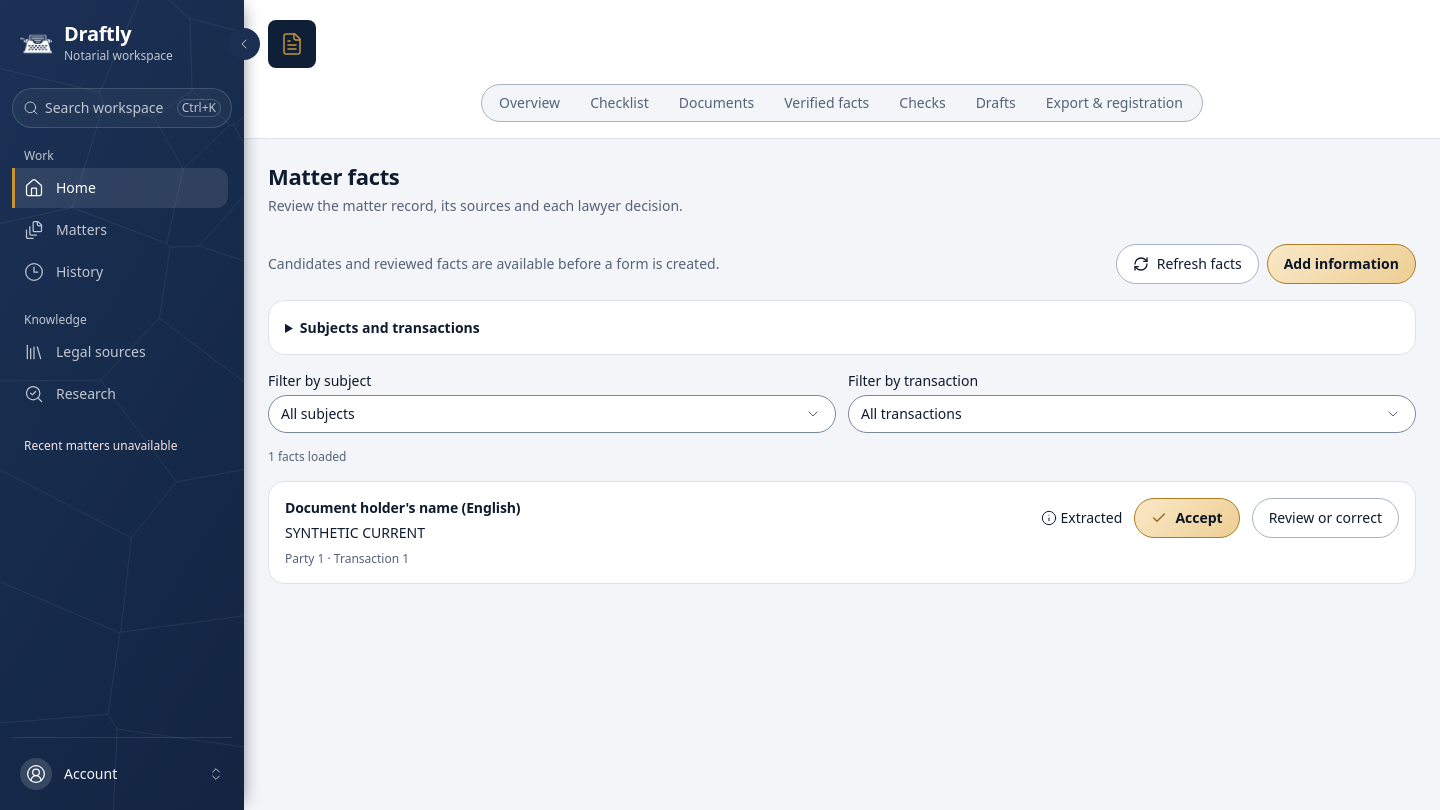
Scenario: canonical register › retries an ambiguous quick acceptance using the same key and displayed version
This screenshot has width=1440, height=810.
Click the button "Accept" at (1187,518), box [1134,498,1240,538]
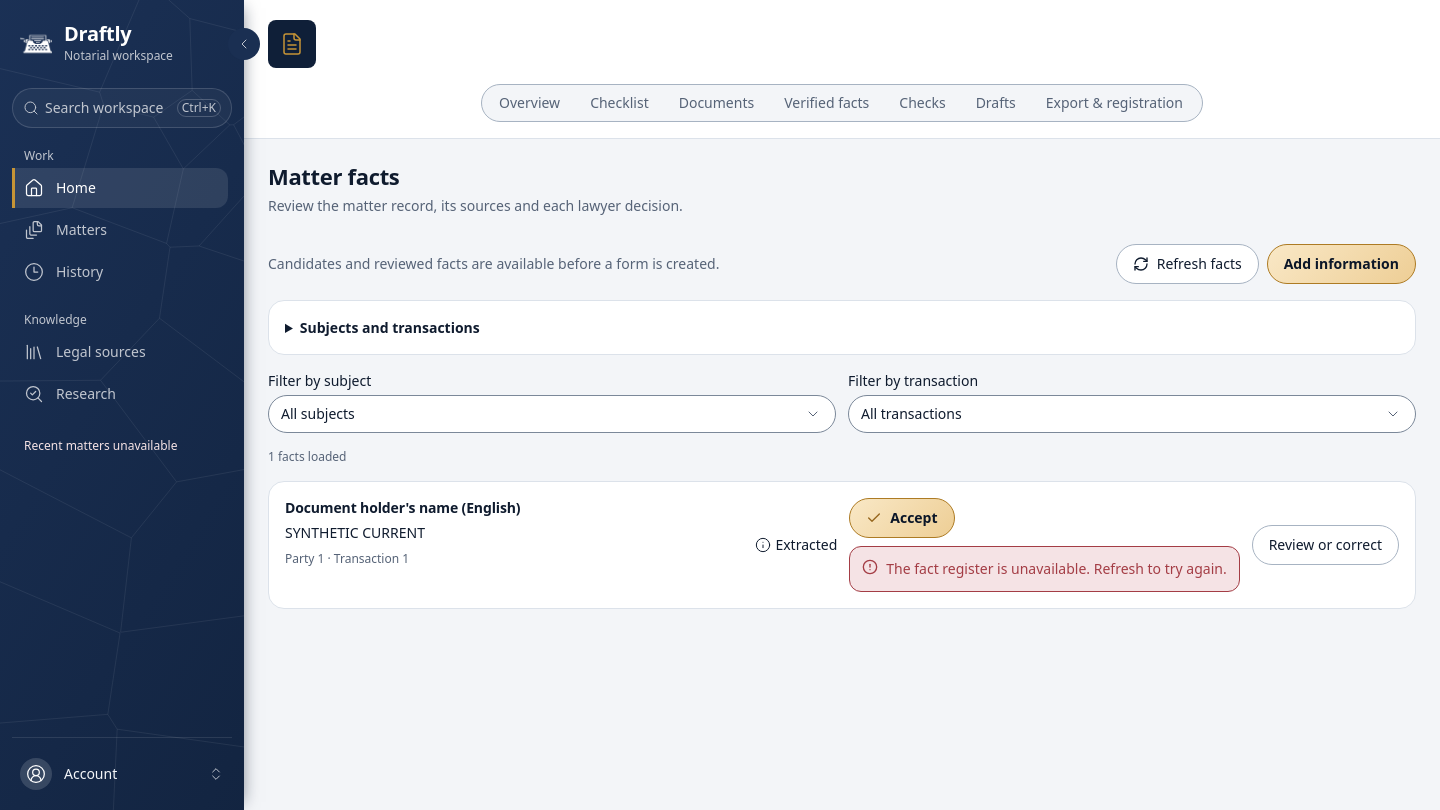
Expected: the text "Lawyer confirmed" is not shown
Expected: the message "The fact register is unavailable. Refresh to try again." is shown, [849,546,1240,592]
Click the button "Accept" at (902,518), box [849,498,955,538]
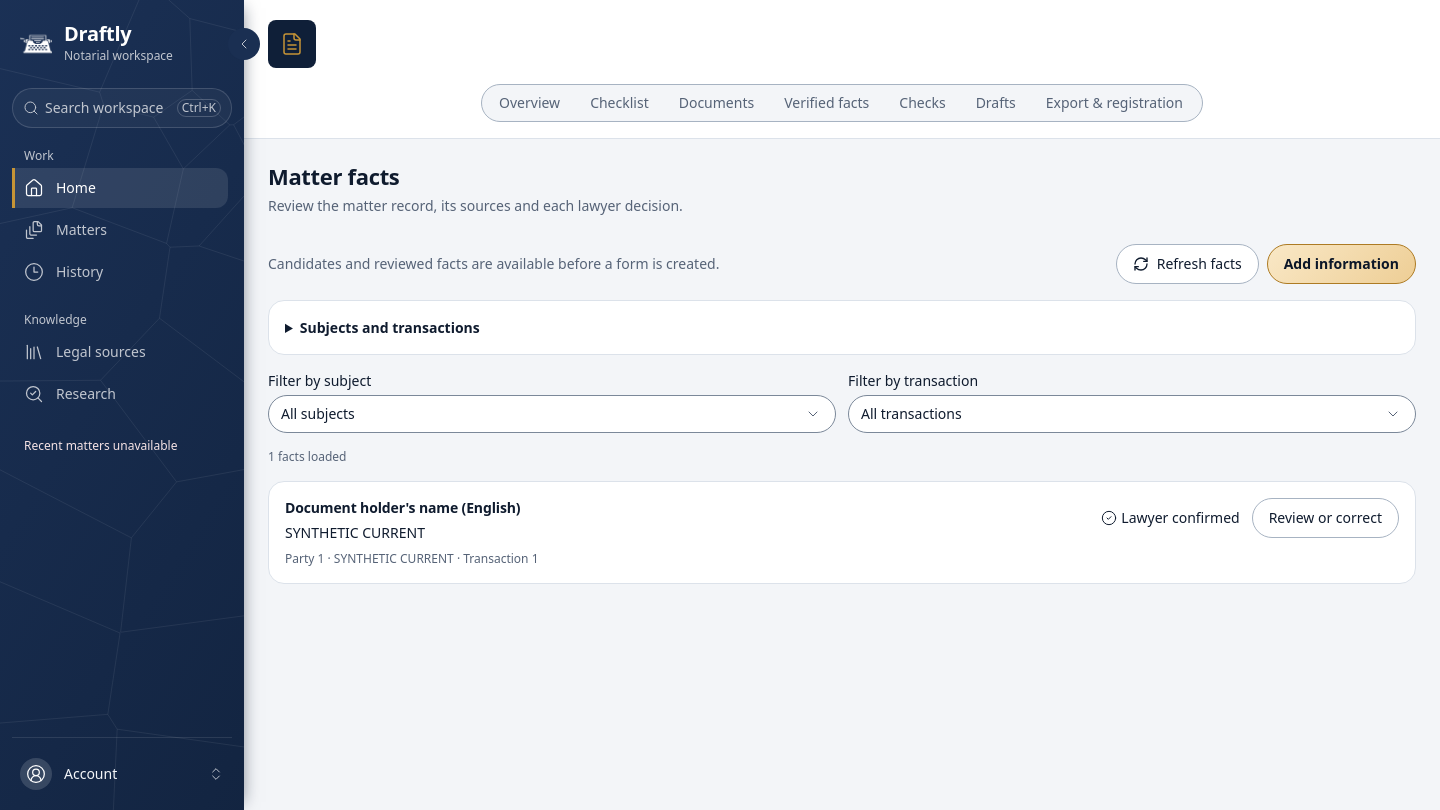
Expected: the text "Lawyer confirmed" is shown, [1101,508,1240,528]
